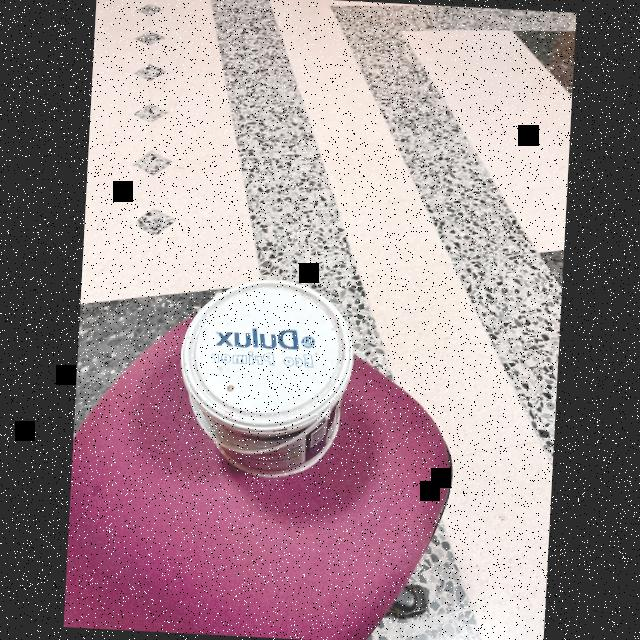paint_bucket: (180, 272, 358, 489)
